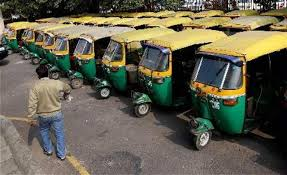rickshaw: (194, 45, 287, 157), (133, 40, 197, 110), (100, 36, 138, 99), (70, 34, 103, 86), (48, 38, 75, 77), (40, 32, 57, 64), (8, 28, 22, 57), (32, 31, 43, 61)
